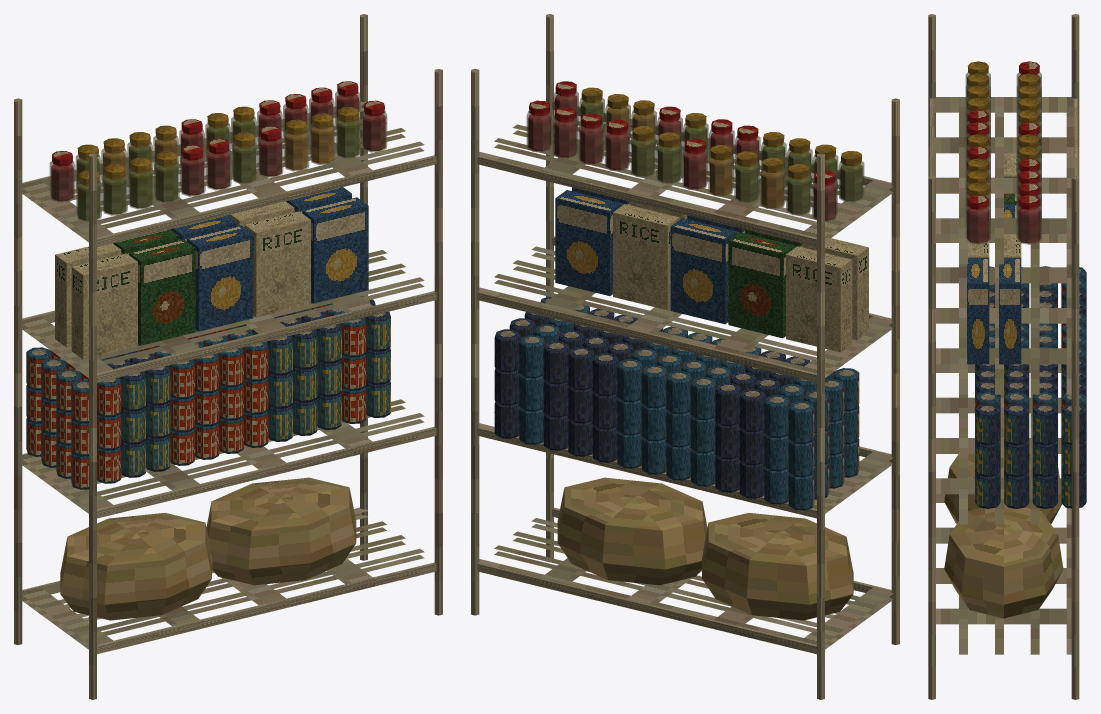
File: PSX_ShelvesPropsHorrorItemsWireRack.glb
The picture shows the model from 3 angles, left to right: view 1: azimuth 30°, elevation 25°; view 2: azimuth 150°, elevation 25°; view 3: azimuth 270°, elevation 25°; orthographic projection. The views are drawn at different scales.
Parts seen in each view (by area): view 1: WireRack; view 2: WireRack; view 3: WireRack.
Part boxes in pixels (bbox=[...]): WireRack: bbox=[14, 14, 442, 699]; WireRack: bbox=[471, 14, 899, 699]; WireRack: bbox=[928, 14, 1086, 699].
Size of the model in its own units: 1.23 by 1.8 by 0.4971.
14 materials, 14 textured.
